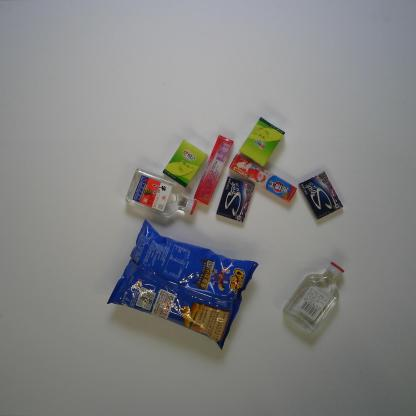Alcohol: (282, 262, 348, 333), (125, 168, 198, 218)
Candy: (228, 154, 297, 203), (192, 134, 235, 206)
Gum: (298, 170, 344, 220), (214, 176, 256, 224)
Puffed Food: (103, 218, 259, 352)
Tissue: (162, 138, 208, 189), (240, 116, 285, 166)
